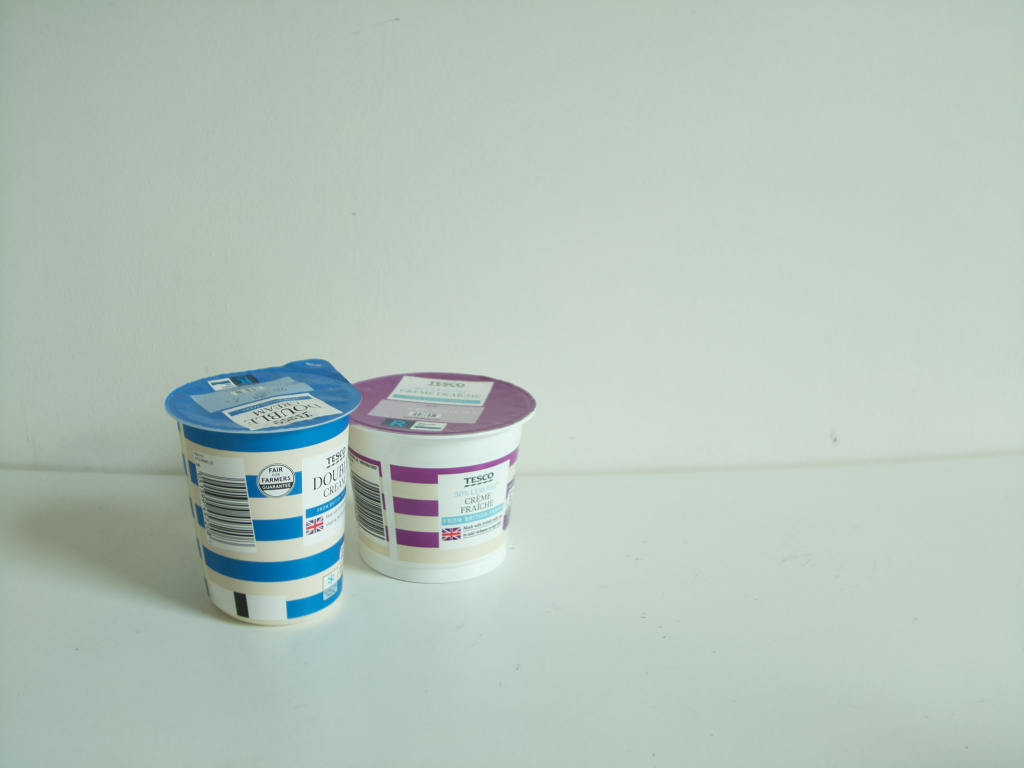cream: (163, 356, 366, 631), (342, 375, 536, 584)
